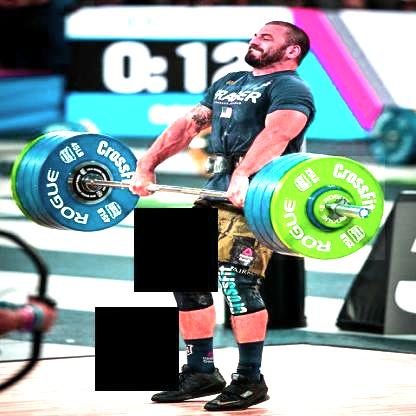barbell: (274, 157, 386, 261), (39, 132, 144, 232)
